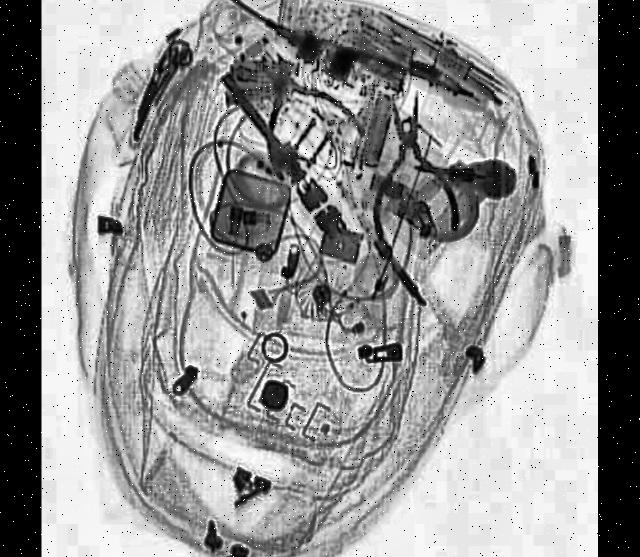Pliers: (238, 25, 370, 196), (364, 80, 463, 241)
